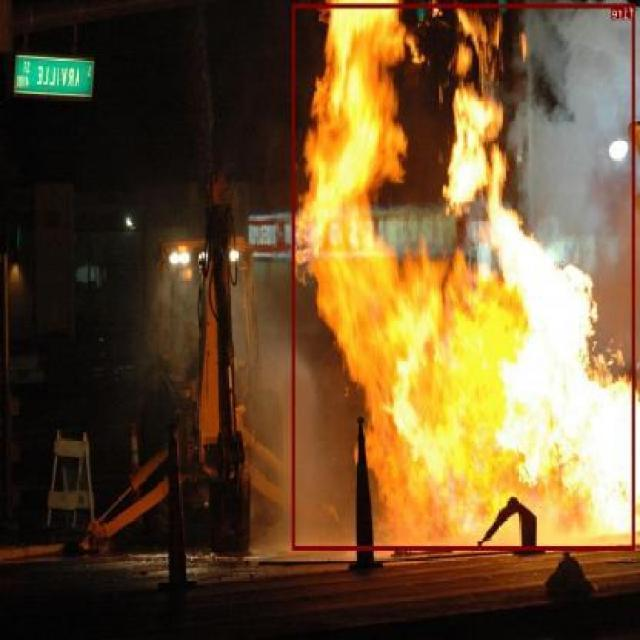Fire: (292, 3, 636, 549)
